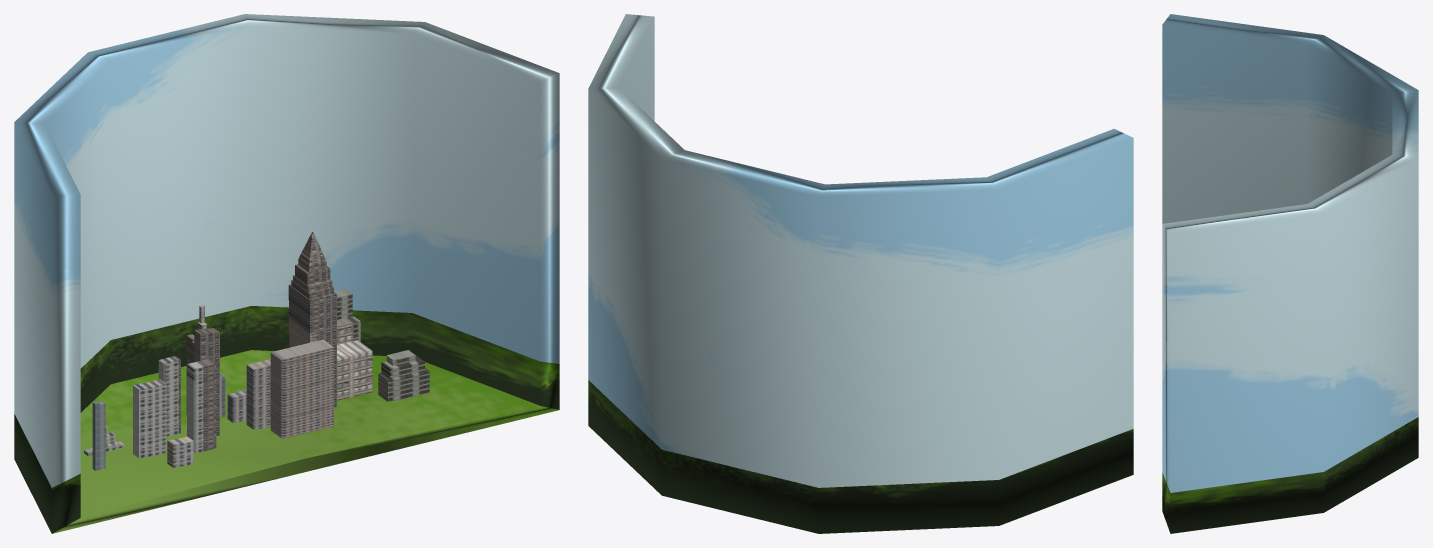
Rendered from town.fbx.
3 views of the same model, side by side, from view 1: azimuth 30°, elevation 25°; view 2: azimuth 150°, elevation 25°; view 3: azimuth 270°, elevation 25° (orthographic). The views are drawn at different scales.
Parts seen in each view (by area): view 1: pCylinder2; view 2: pCylinder2; view 3: pCylinder2.
Boxes of the visible parts, <box> form: pCylinder2: <box>14,14,559,533</box>; pCylinder2: <box>588,14,1133,533</box>; pCylinder2: <box>1162,14,1418,533</box>.
Size of the model in its own units: 1114 by 706 by 547.
